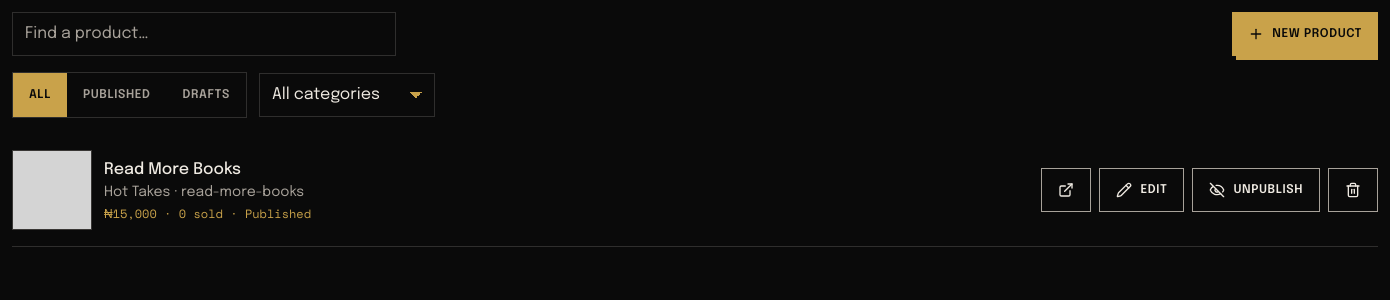
Test case: AdminProducts › unpublishes a product and makes it publishable again
Click the button with aria-label "Unpublish Read More Books" at point(1256, 190), box [1192, 168, 1320, 212]
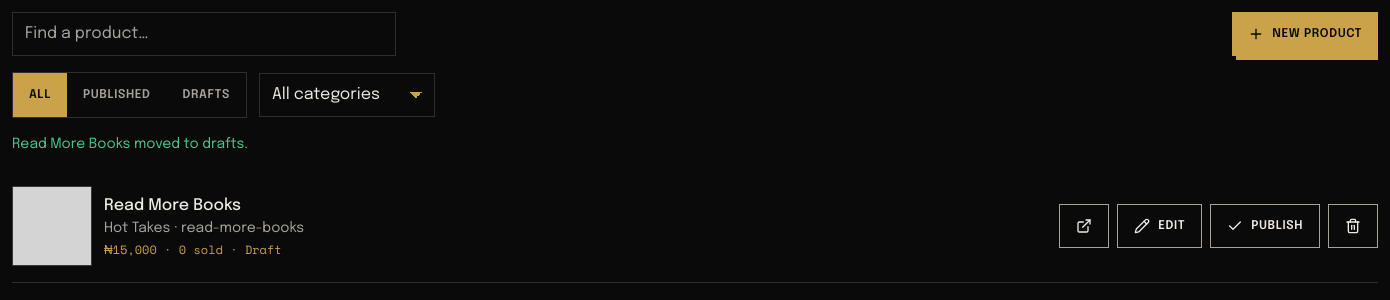
Expected: the button with aria-label "Publish Read More Books" is shown, [1210, 204, 1320, 248]
Expected: the text "Read More Books moved to drafts." is shown, [12, 137, 248, 151]
